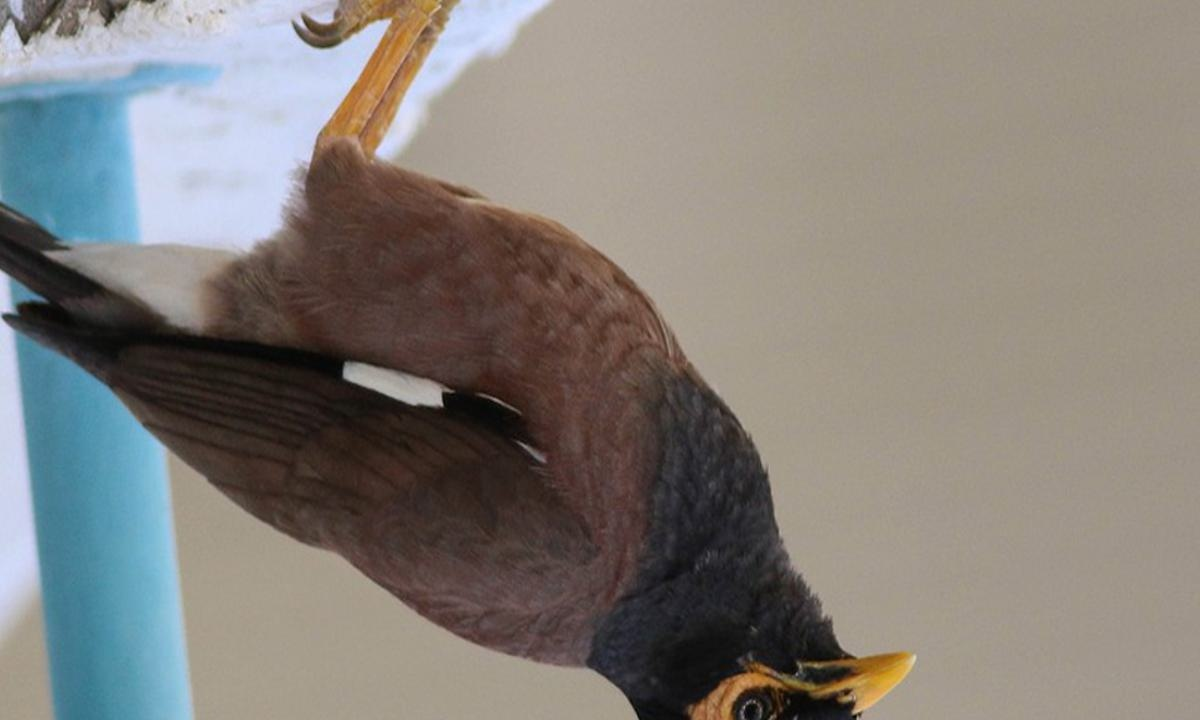myna: (105, 42, 956, 720)
